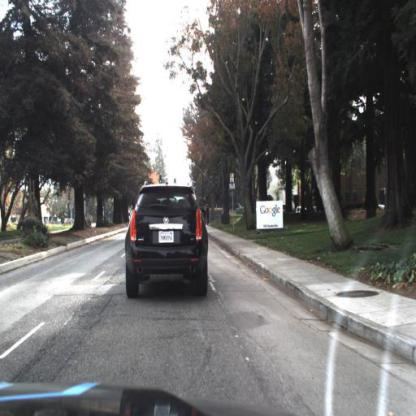car: (121, 184, 212, 301)
trafficLight-Green: (159, 174, 164, 185), (174, 177, 178, 185)
